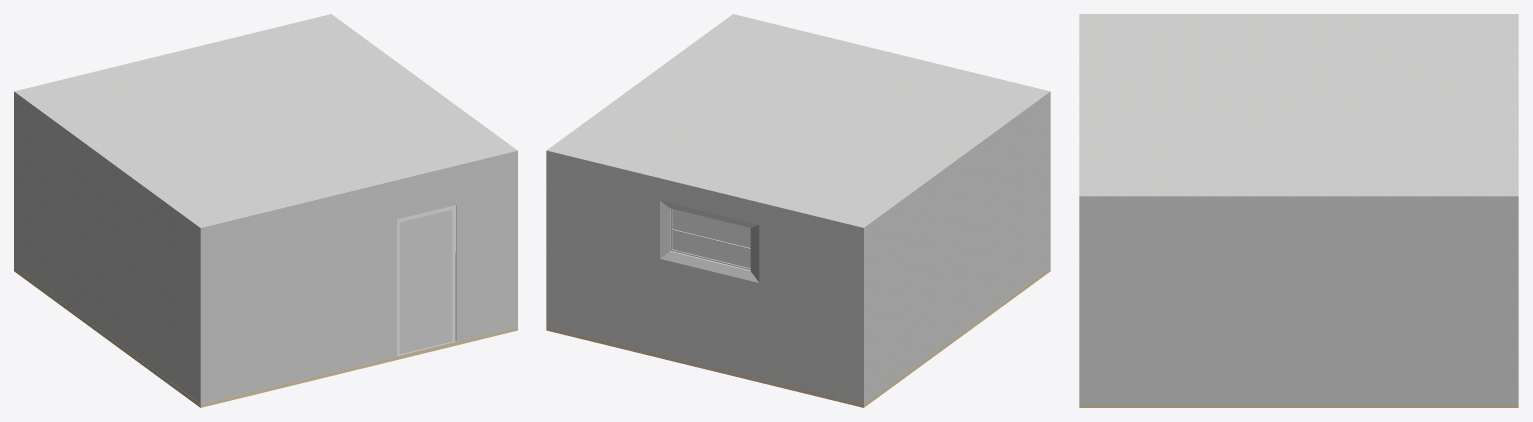
The model's file is FloorPlan402_physics.fbx.
3 views of the same model, side by side, from view 1: azimuth 30°, elevation 25°; view 2: azimuth 150°, elevation 25°; view 3: azimuth 270°, elevation 25° (orthographic). The views are drawn at different scales.
Parts seen in each view (by area): view 1: FP402:Walls, FP402:Ceiling, FP402:Door.001, FP402:Floor, FP402:DoorFrame.001; view 2: FP402:Walls, FP402:Ceiling, FP402:polySurface14, FP402:Floor, FP402:polySurface11; view 3: FP402:Walls, FP402:Ceiling, FP402:Floor.
Part boxes in pixels (x1,y1,x2,y2): FP402:Walls: (14,99,517,403); FP402:Ceiling: (14,14,517,235); FP402:Door.001: (399,209,452,354); FP402:Floor: (14,267,517,407); FP402:DoorFrame.001: (397,205,455,355); FP402:Walls: (546,99,1050,403); FP402:Ceiling: (546,14,1050,235); FP402:polySurface14: (672,209,750,268); FP402:Floor: (546,267,1050,407); FP402:polySurface11: (671,208,750,270); FP402:Walls: (1079,205,1518,403); FP402:Ceiling: (1079,14,1518,205); FP402:Floor: (1079,403,1518,407).
Bounding box in the file's own units: 506 × 274 × 515.
